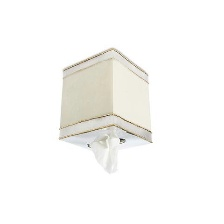plastic_box: (52, 45, 157, 157)
tissue: (85, 132, 126, 179)
